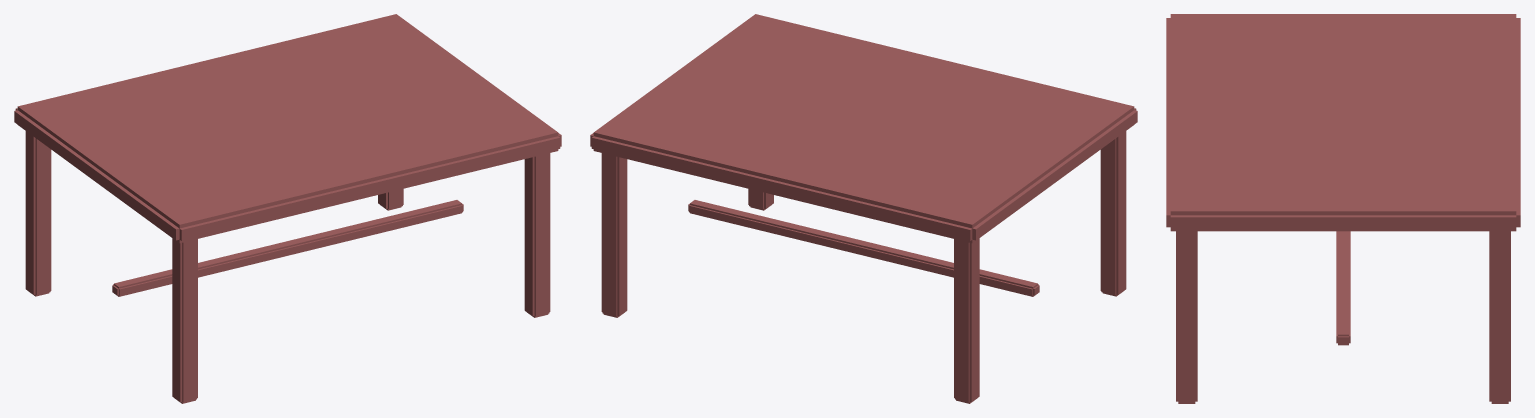
The model's file is shadewood_table_v0.glb.
The picture shows the model from 3 angles, left to right: view 1: azimuth 30°, elevation 25°; view 2: azimuth 150°, elevation 25°; view 3: azimuth 270°, elevation 25°; orthographic projection. The views are drawn at different scales.
Visible parts, largest first — view 1: shadewood_table_v0; view 2: shadewood_table_v0; view 3: shadewood_table_v0.
Boxes of the visible parts, x1=… form: shadewood_table_v0: x1=14, y1=14, x2=561, y2=403; shadewood_table_v0: x1=590, y1=14, x2=1137, y2=403; shadewood_table_v0: x1=1166, y1=14, x2=1520, y2=403.
Bounding box in the file's own units: 1.96 × 0.89 × 1.46.
